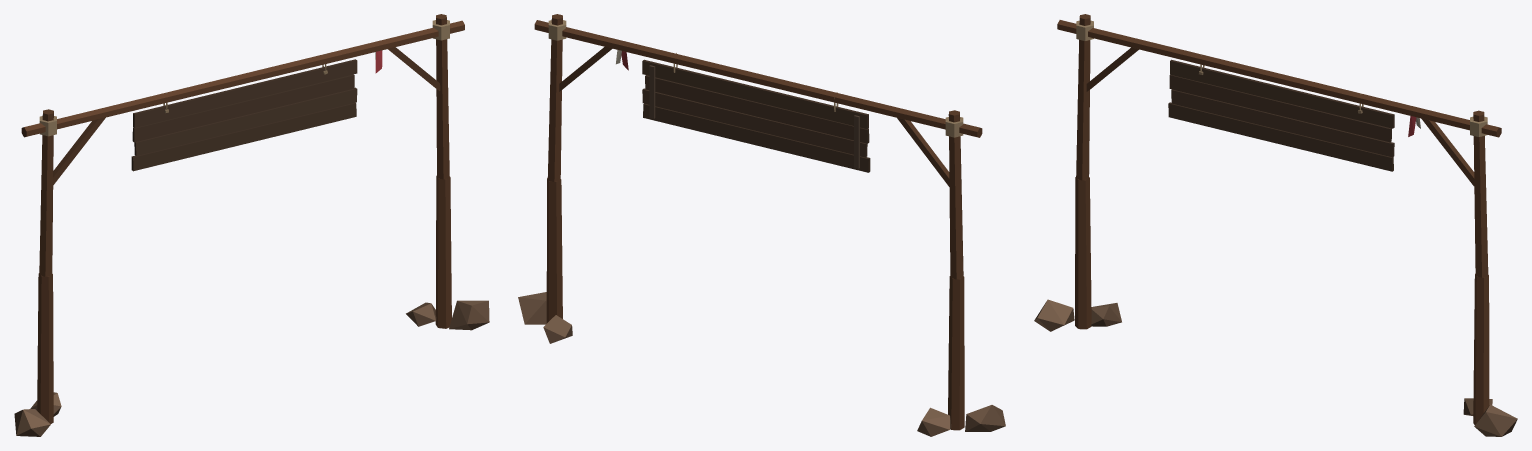
File: tl_sign_cave_gate_v01.glb
The picture shows the model from 3 angles, left to right: view 1: azimuth 30°, elevation 25°; view 2: azimuth 150°, elevation 25°; view 3: azimuth 330°, elevation 25°; orthographic projection.
Visible parts, largest first — view 1: tl_sign_cave_gate_v01; view 2: tl_sign_cave_gate_v01; view 3: tl_sign_cave_gate_v01.
Boxes of the visible parts, left/top/right/bottom form: tl_sign_cave_gate_v01: left=14, top=14, right=489, bottom=436; tl_sign_cave_gate_v01: left=518, top=14, right=1005, bottom=436; tl_sign_cave_gate_v01: left=1034, top=14, right=1517, bottom=436.
Bounding box in the file's own units: 6.93 × 4.3 × 0.8315.
